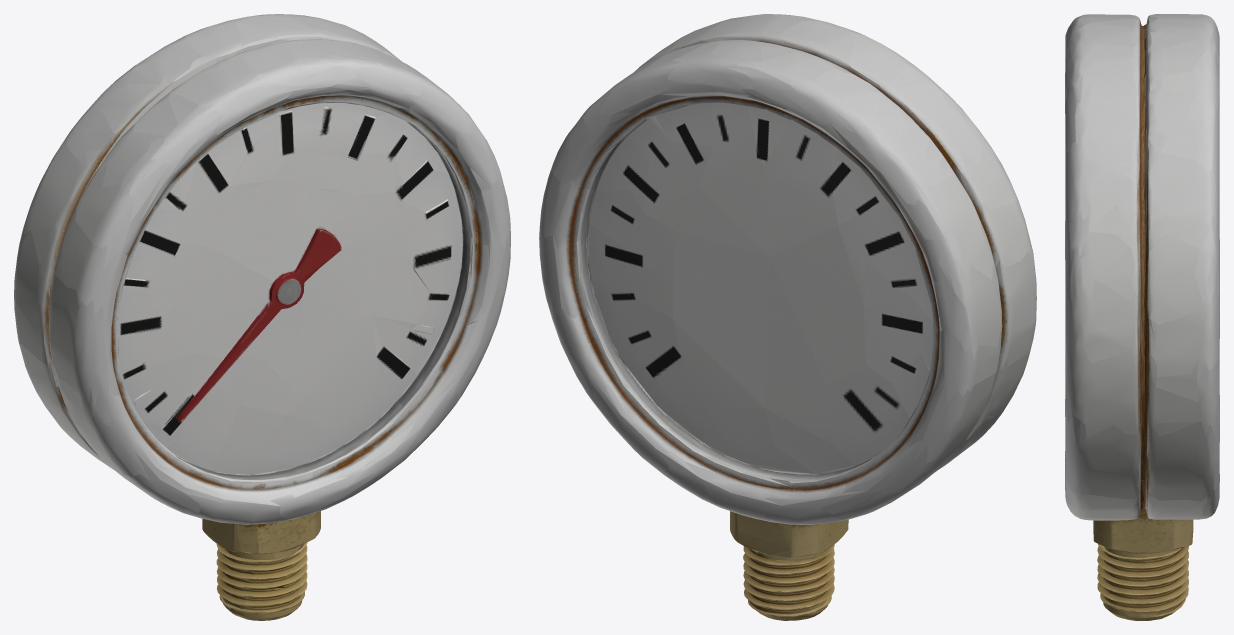
Rendered from manometro.glb.
3 renders of one model, left to right at view 1: azimuth 30°, elevation 25°; view 2: azimuth 150°, elevation 25°; view 3: azimuth 270°, elevation 25°, orthographic.
Visible parts, largest first — view 1: Mesh_0; view 2: Mesh_0; view 3: Mesh_0.
Boxes of the visible parts, x1,y1,x2,y2 form: Mesh_0: (14, 14, 510, 620); Mesh_0: (539, 14, 1036, 620); Mesh_0: (1065, 14, 1219, 620).
Bounding box in the file's own units: 1.54 × 1.9 × 0.469.
1 material, 1 textured.
